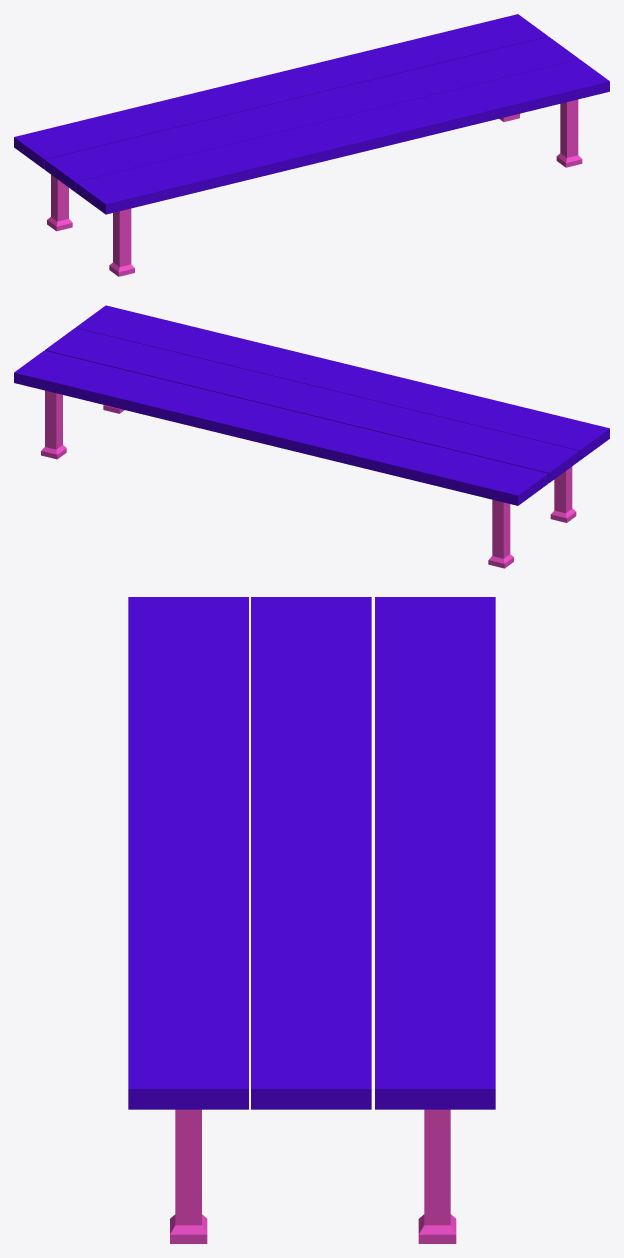
The model's file is Bemch.fbx.
3 views of the same model, one above another, from view 1: azimuth 30°, elevation 25°; view 2: azimuth 150°, elevation 25°; view 3: azimuth 270°, elevation 25° (orthographic). The views are drawn at different scales.
Visible parts, largest first — view 1: Cube.001, Cube.003, Cube.005, Cube.006; view 2: Cube.001, Cube.006, Cube.004, Cube.005; view 3: Cube.001, Cube.004, Cube.003.
Boxes of the visible parts, x1,y1,x2,y2 form: Cube.001: (14, 14, 609, 214); Cube.003: (556, 99, 582, 167); Cube.005: (109, 208, 134, 276); Cube.006: (47, 175, 72, 231); Cube.001: (14, 305, 609, 505); Cube.006: (488, 499, 513, 568); Cube.004: (41, 390, 66, 459); Cube.005: (550, 466, 576, 522); Cube.001: (128, 597, 495, 1109); Cube.004: (418, 1109, 456, 1243); Cube.003: (170, 1109, 207, 1243).
Bounding box in the file's own units: 706 × 115 × 223.
